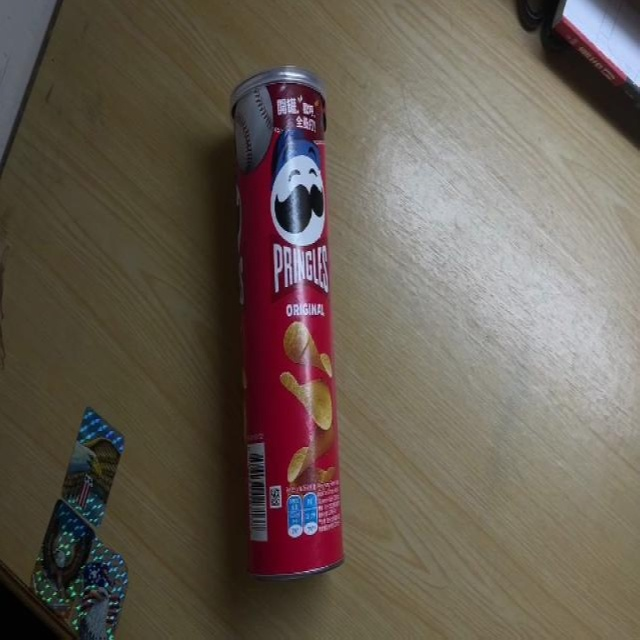Pringles: (230, 67, 347, 579)
